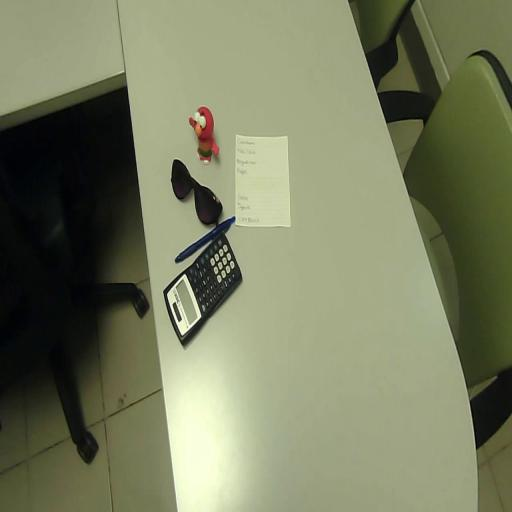pen: (175, 217, 235, 262)
